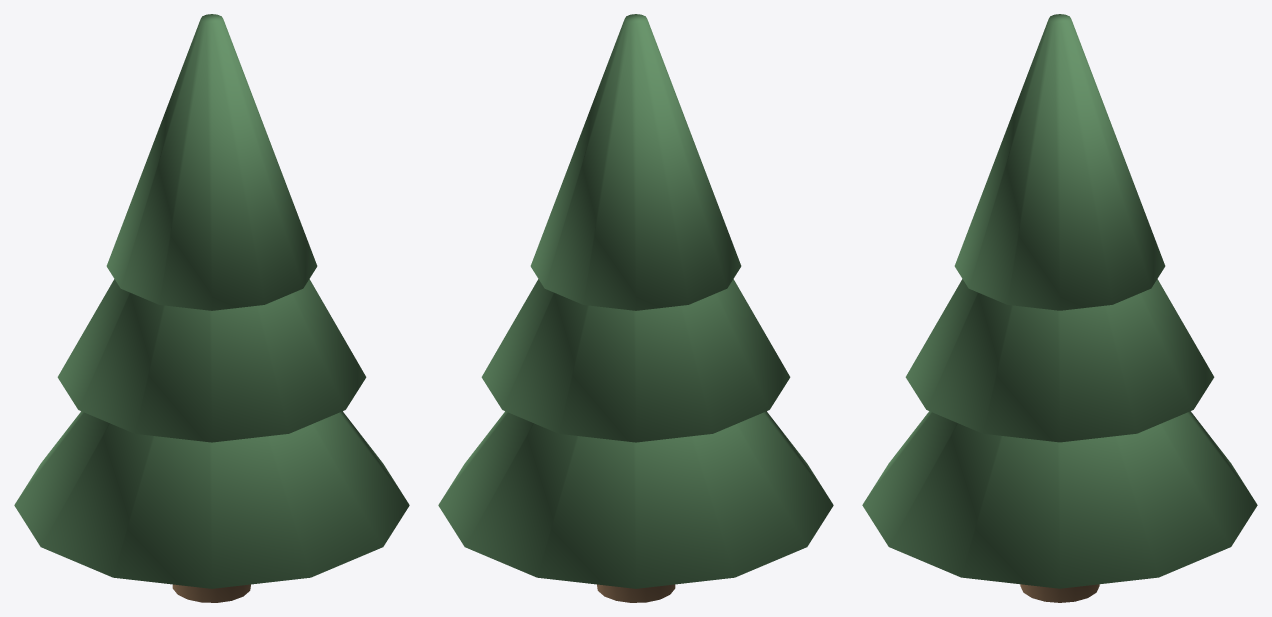
Rendered from fir.glb.
3 views of the same model, side by side, from view 1: azimuth 30°, elevation 25°; view 2: azimuth 150°, elevation 25°; view 3: azimuth 270°, elevation 25° (orthographic).
Parts seen in each view (by area): view 1: body; view 2: body; view 3: body.
Part boxes in pixels (<box>): body: <box>14,14,409,602</box>; body: <box>438,14,833,602</box>; body: <box>862,14,1257,602</box>.
Bounding box in the file's own units: 2.1 × 3.33 × 2.1.
